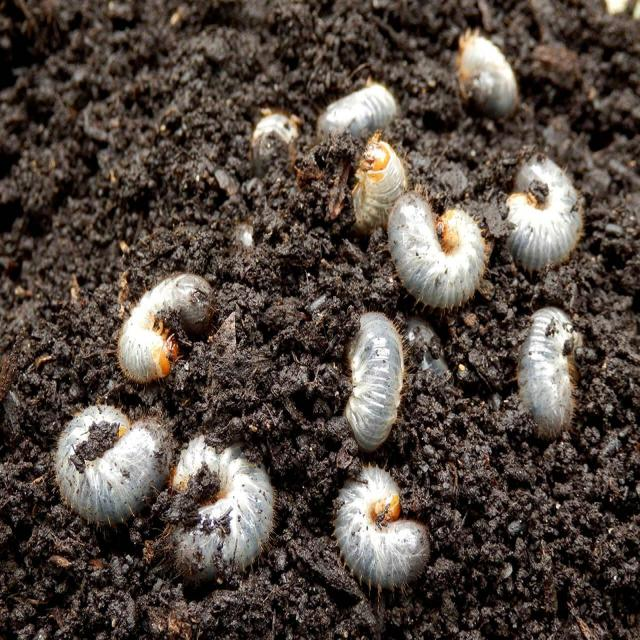Grub-Adult-: (314, 441, 457, 621), (158, 414, 284, 599), (377, 176, 518, 331), (82, 259, 230, 404), (40, 390, 178, 528), (321, 311, 427, 460), (487, 138, 594, 267), (496, 305, 586, 447), (438, 26, 532, 114), (314, 84, 420, 146), (341, 140, 416, 226)
